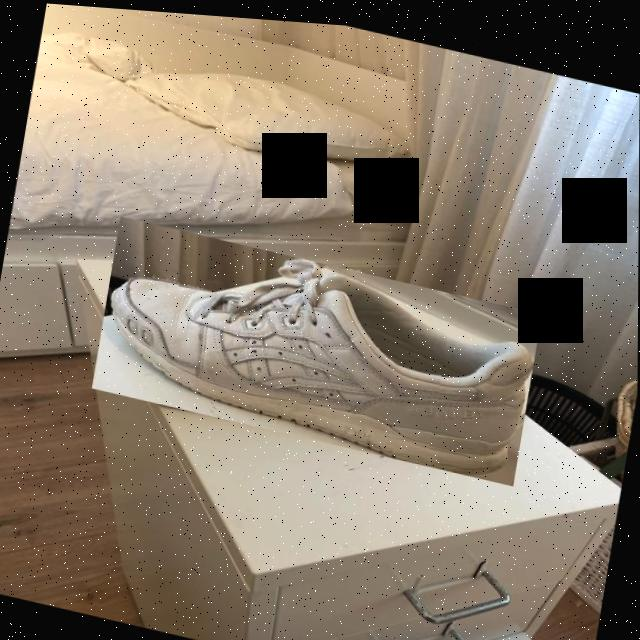shoe: (92, 214, 542, 481)
